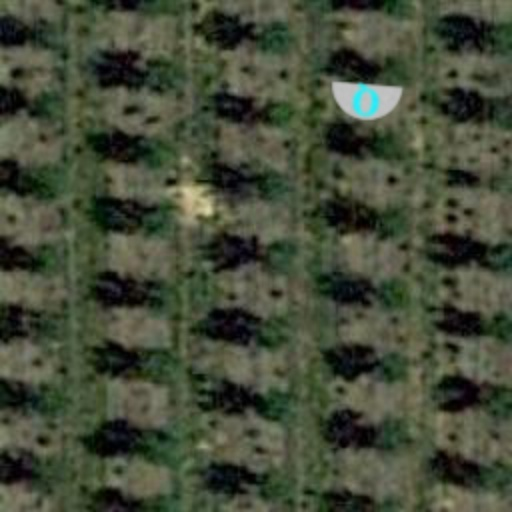semicircle: (326, 62, 406, 142)
